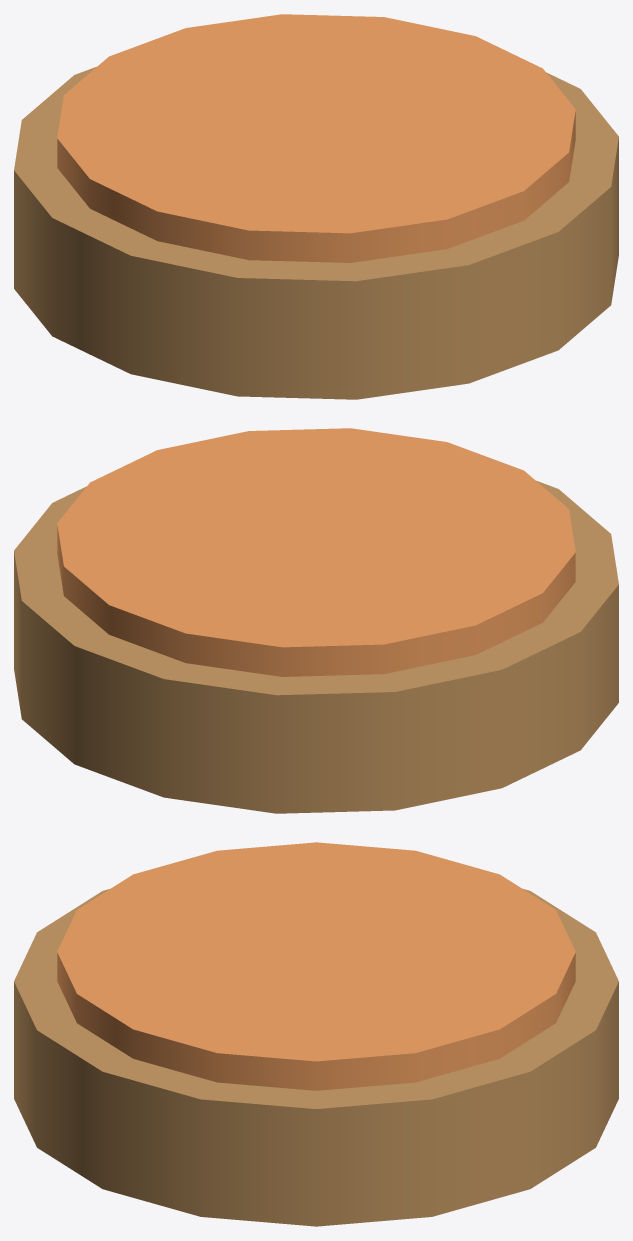
File: floor_cushion.glb
3 renders of one model, top to bottom at view 1: azimuth 30°, elevation 25°; view 2: azimuth 150°, elevation 25°; view 3: azimuth 270°, elevation 25°, orthographic.
Parts seen in each view (by area): view 1: floor_cushion; view 2: floor_cushion; view 3: floor_cushion.
Boxes of the visible parts, left/top/right/bottom form: floor_cushion: left=14, top=14, right=618, bottom=399; floor_cushion: left=14, top=428, right=618, bottom=813; floor_cushion: left=14, top=842, right=618, bottom=1226.
Bounding box in the file's own units: 28 × 7.5 × 28.
